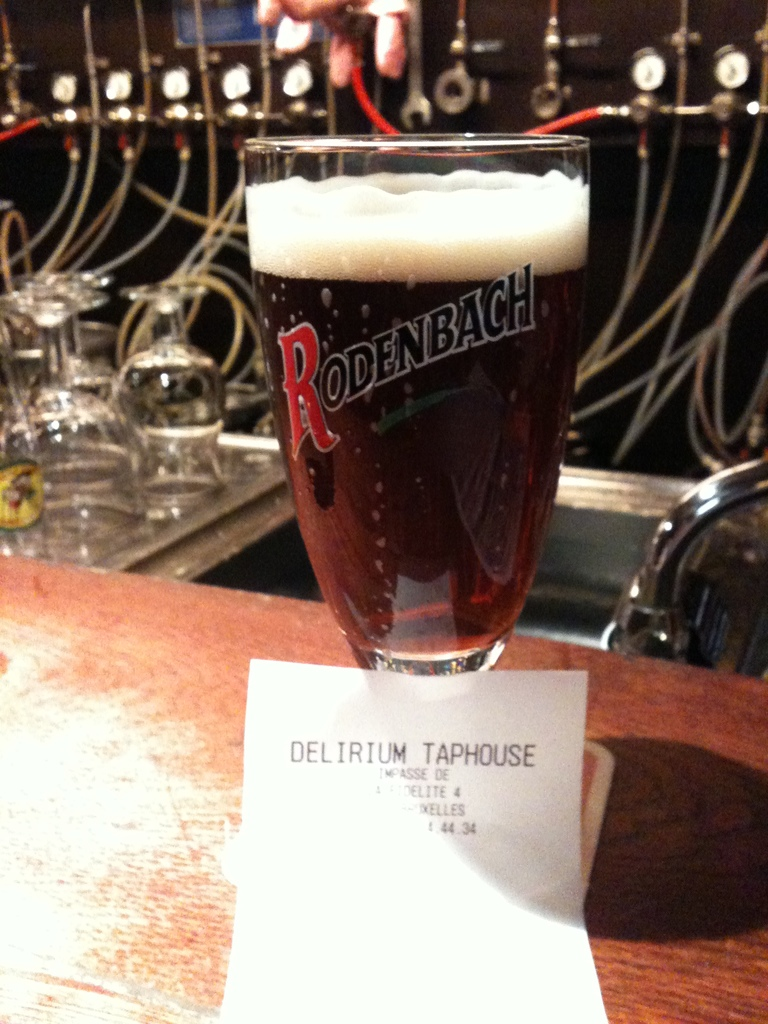Beer: (248, 142, 595, 677)
